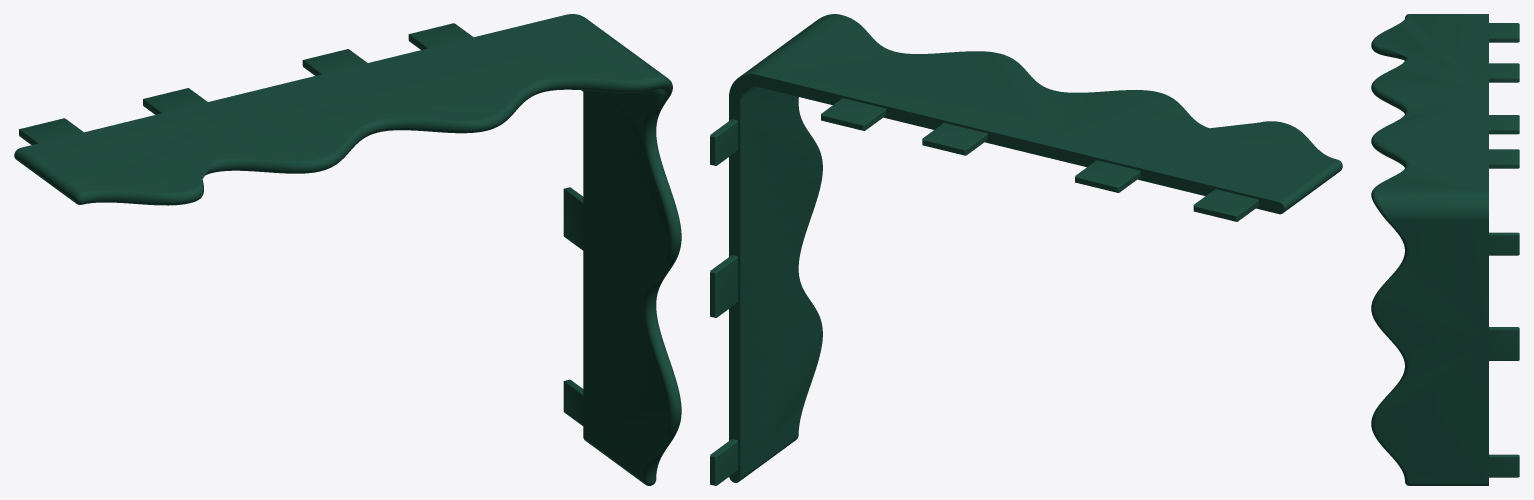
The picture shows the model from 3 angles, left to right: view 1: azimuth 30°, elevation 25°; view 2: azimuth 150°, elevation 25°; view 3: azimuth 270°, elevation 25°; orthographic projection. The views are drawn at different scales.
Parts seen in each view (by area): view 1: G15_PineGreen; view 2: G15_PineGreen; view 3: G15_PineGreen.
Boxes of the visible parts, <box> form: G15_PineGreen: <box>14,14,681,485</box>; G15_PineGreen: <box>710,14,1342,485</box>; G15_PineGreen: <box>1371,14,1519,485</box>.
Size of the model in its own units: 145 by 103 by 48.5.
